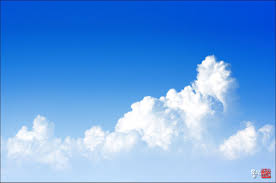sky: (2, 2, 272, 183)
